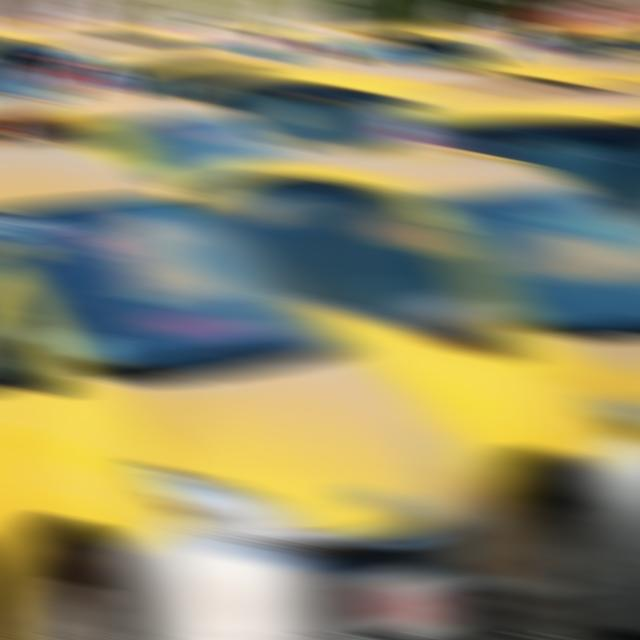Door: (169, 147, 640, 640), (163, 58, 537, 152), (406, 88, 640, 222), (42, 92, 288, 191)
Taxi: (0, 136, 486, 640)
